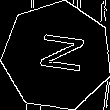N_W: (29, 33, 85, 79)
